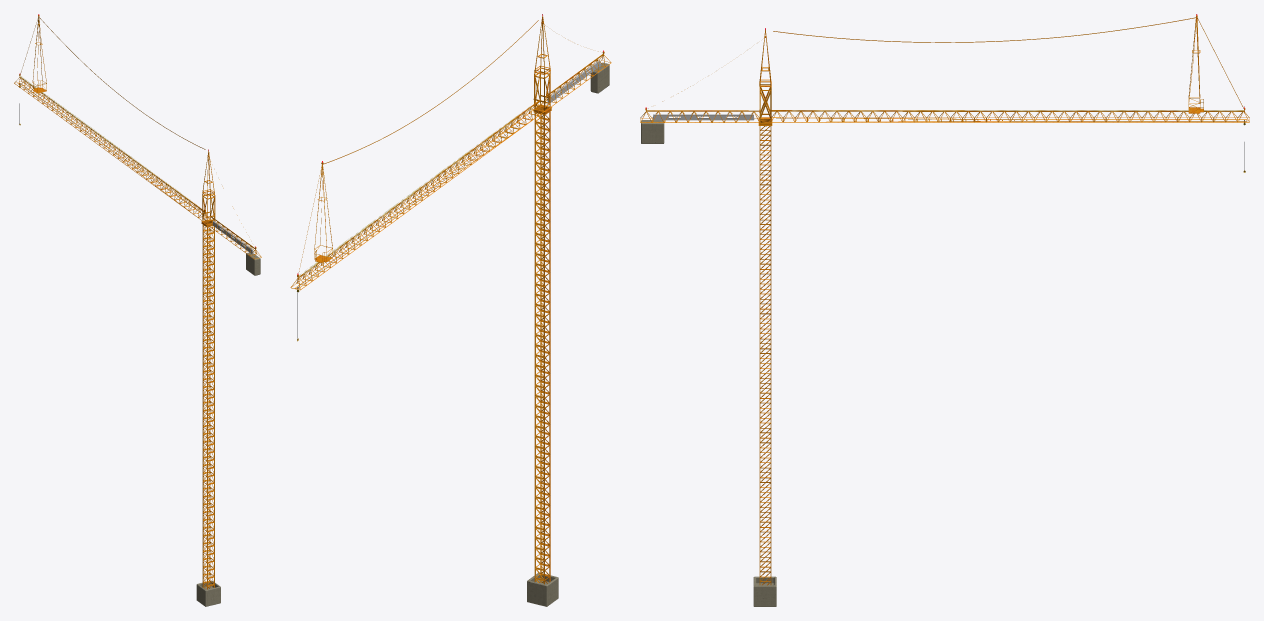
Rendered from crane.glb.
The picture shows the model from 3 angles, left to right: view 1: azimuth 30°, elevation 25°; view 2: azimuth 150°, elevation 25°; view 3: azimuth 270°, elevation 25°; orthographic projection. The views are drawn at different scales.
Parts seen in each view (by area): view 1: Verticals, NewCraneSkeleton, Cube, NewCrane, meshramp2; view 2: Verticals, NewCraneSkeleton, Cube, NewCrane, meshramp2, Cube.013, NewCrane.001, Verticals.001, NewCraneSkeleton.001; view 3: Verticals, NewCraneSkeleton, NewCrane.
Boxes of the visible parts, <box> form: Verticals: <box>202,225,214,589</box>; NewCraneSkeleton: <box>14,77,209,218</box>; Cube: <box>196,580,220,606</box>; NewCrane: <box>17,83,210,221</box>; meshramp2: <box>20,76,199,208</box>; Verticals: <box>534,111,550,584</box>; NewCraneSkeleton: <box>290,103,543,290</box>; Cube: <box>527,573,558,606</box>; NewCrane: <box>295,108,544,288</box>; meshramp2: <box>298,106,532,277</box>; Cube.013: <box>590,62,609,93</box>; NewCrane.001: <box>299,99,545,277</box>; Verticals.001: <box>534,66,550,111</box>; NewCraneSkeleton.001: <box>541,55,611,107</box>; Verticals: <box>759,120,771,585</box>; NewCraneSkeleton: <box>771,111,1249,122</box>; NewCrane: <box>771,117,1247,122</box>.
Bounding box in the file's own units: 2 × 55.76 × 52.37.
24 materials, 6 textured.
